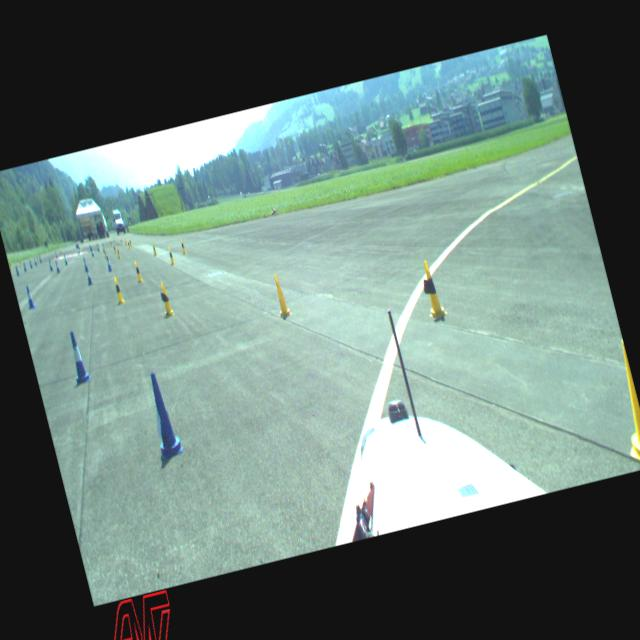blue_cone: (141, 369, 184, 457), (64, 328, 92, 384), (24, 285, 36, 308), (84, 264, 92, 284), (104, 256, 112, 272), (82, 256, 88, 270), (54, 260, 60, 272), (14, 264, 20, 276), (48, 259, 52, 270), (64, 254, 68, 265), (32, 256, 36, 266), (22, 261, 26, 271), (90, 247, 94, 256), (28, 259, 32, 268), (38, 255, 42, 262)
yellow_cone: (602, 338, 640, 467), (416, 258, 447, 318), (270, 272, 292, 318), (158, 280, 175, 317), (111, 275, 125, 304), (132, 260, 144, 282), (167, 245, 176, 265), (178, 238, 186, 254), (151, 242, 157, 255), (115, 246, 121, 258), (112, 243, 116, 253), (103, 248, 107, 258), (128, 238, 132, 247), (18, 258, 22, 267), (8, 261, 12, 270), (127, 240, 131, 248), (124, 238, 127, 246), (109, 240, 112, 247), (36, 254, 38, 262), (120, 237, 122, 245)
